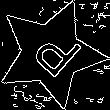P_SW: (20, 23, 82, 84)
